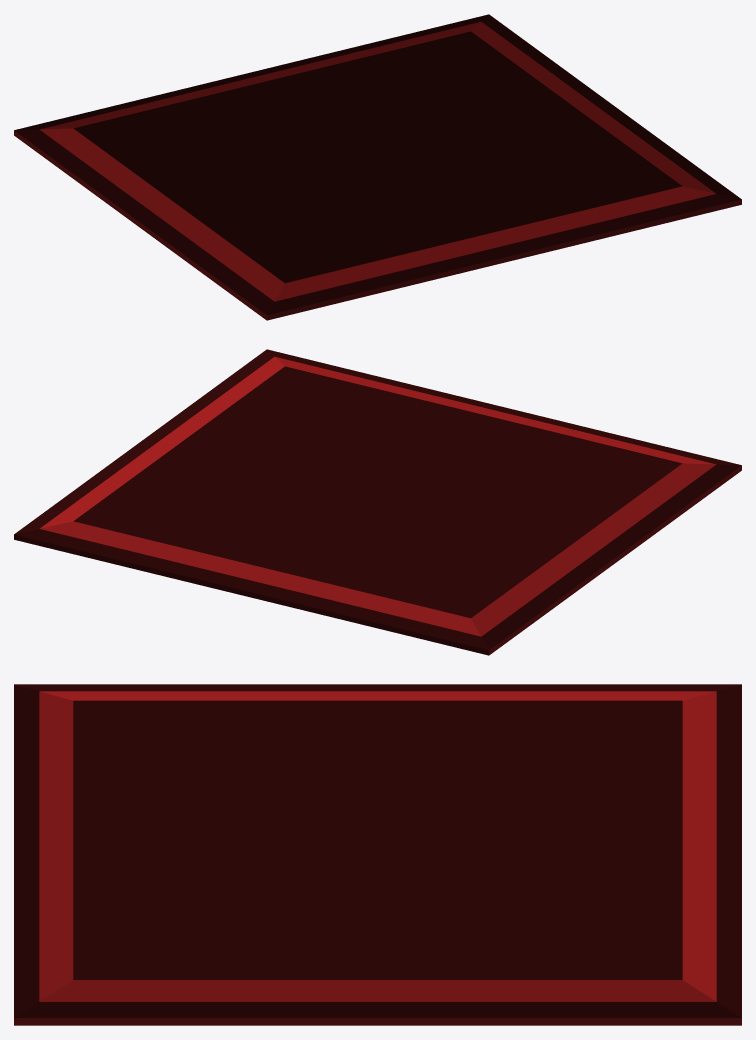
The model's file is Carpet 2.fbx.
3 views of the same model, one above another, from view 1: azimuth 30°, elevation 25°; view 2: azimuth 150°, elevation 25°; view 3: azimuth 270°, elevation 25° (orthographic). The views are drawn at different scales.
Parts seen in each view (by area): view 1: Node 0; view 2: Node 0; view 3: Node 0.
Part boxes in pixels (<box>): Node 0: <box>14,14,741,320</box>; Node 0: <box>14,349,741,655</box>; Node 0: <box>14,684,741,1025</box>.
Size of the model in its own units: 0.3907 by 0.0109 by 0.4237.
